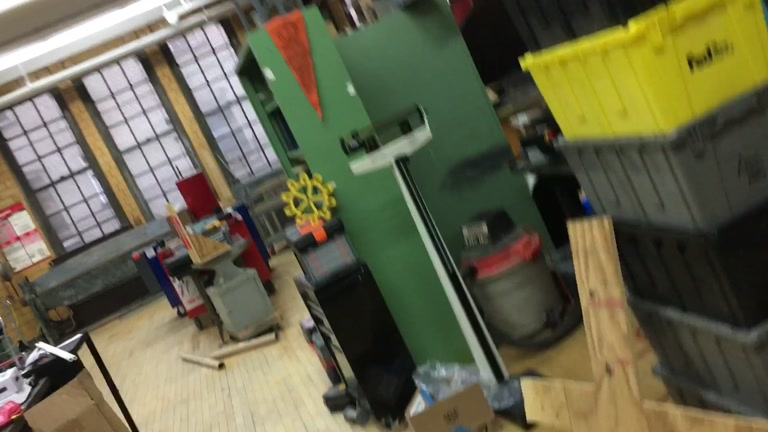gear: (282, 170, 338, 229)
